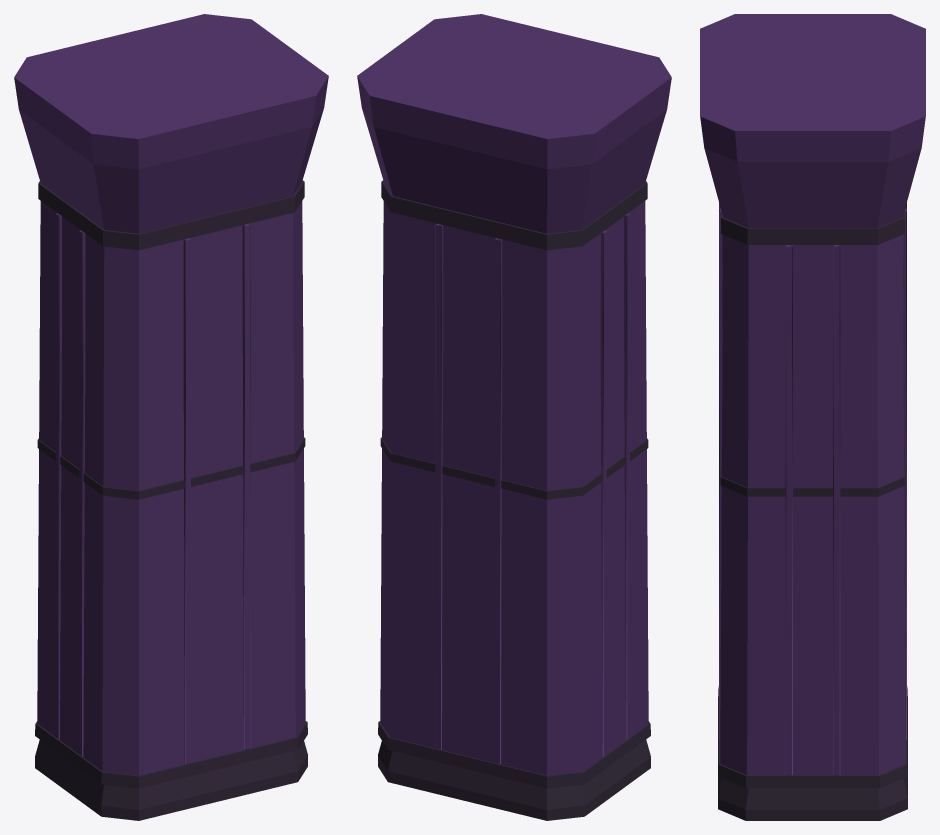
File: SM_SB_Kit_AlienColumn_400x300x1500.fbx
The picture shows the model from 3 angles, left to right: view 1: azimuth 30°, elevation 25°; view 2: azimuth 150°, elevation 25°; view 3: azimuth 270°, elevation 25°; orthographic projection.
Visible parts, largest first — view 1: SM_SB_Kit_AlienColumn_400x300x1500; view 2: SM_SB_Kit_AlienColumn_400x300x1500; view 3: SM_SB_Kit_AlienColumn_400x300x1500.
Part boxes in pixels (x1,y1,x2,y2): SM_SB_Kit_AlienColumn_400x300x1500: [14, 14, 328, 820]; SM_SB_Kit_AlienColumn_400x300x1500: [357, 14, 671, 820]; SM_SB_Kit_AlienColumn_400x300x1500: [700, 14, 925, 820].
Bounding box in the file's own units: 540 × 440 × 1500.
